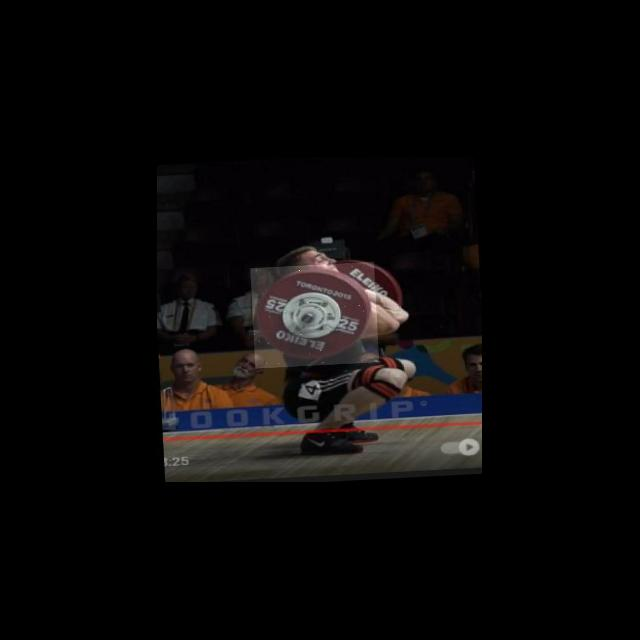barbell: (250, 262, 380, 369)
